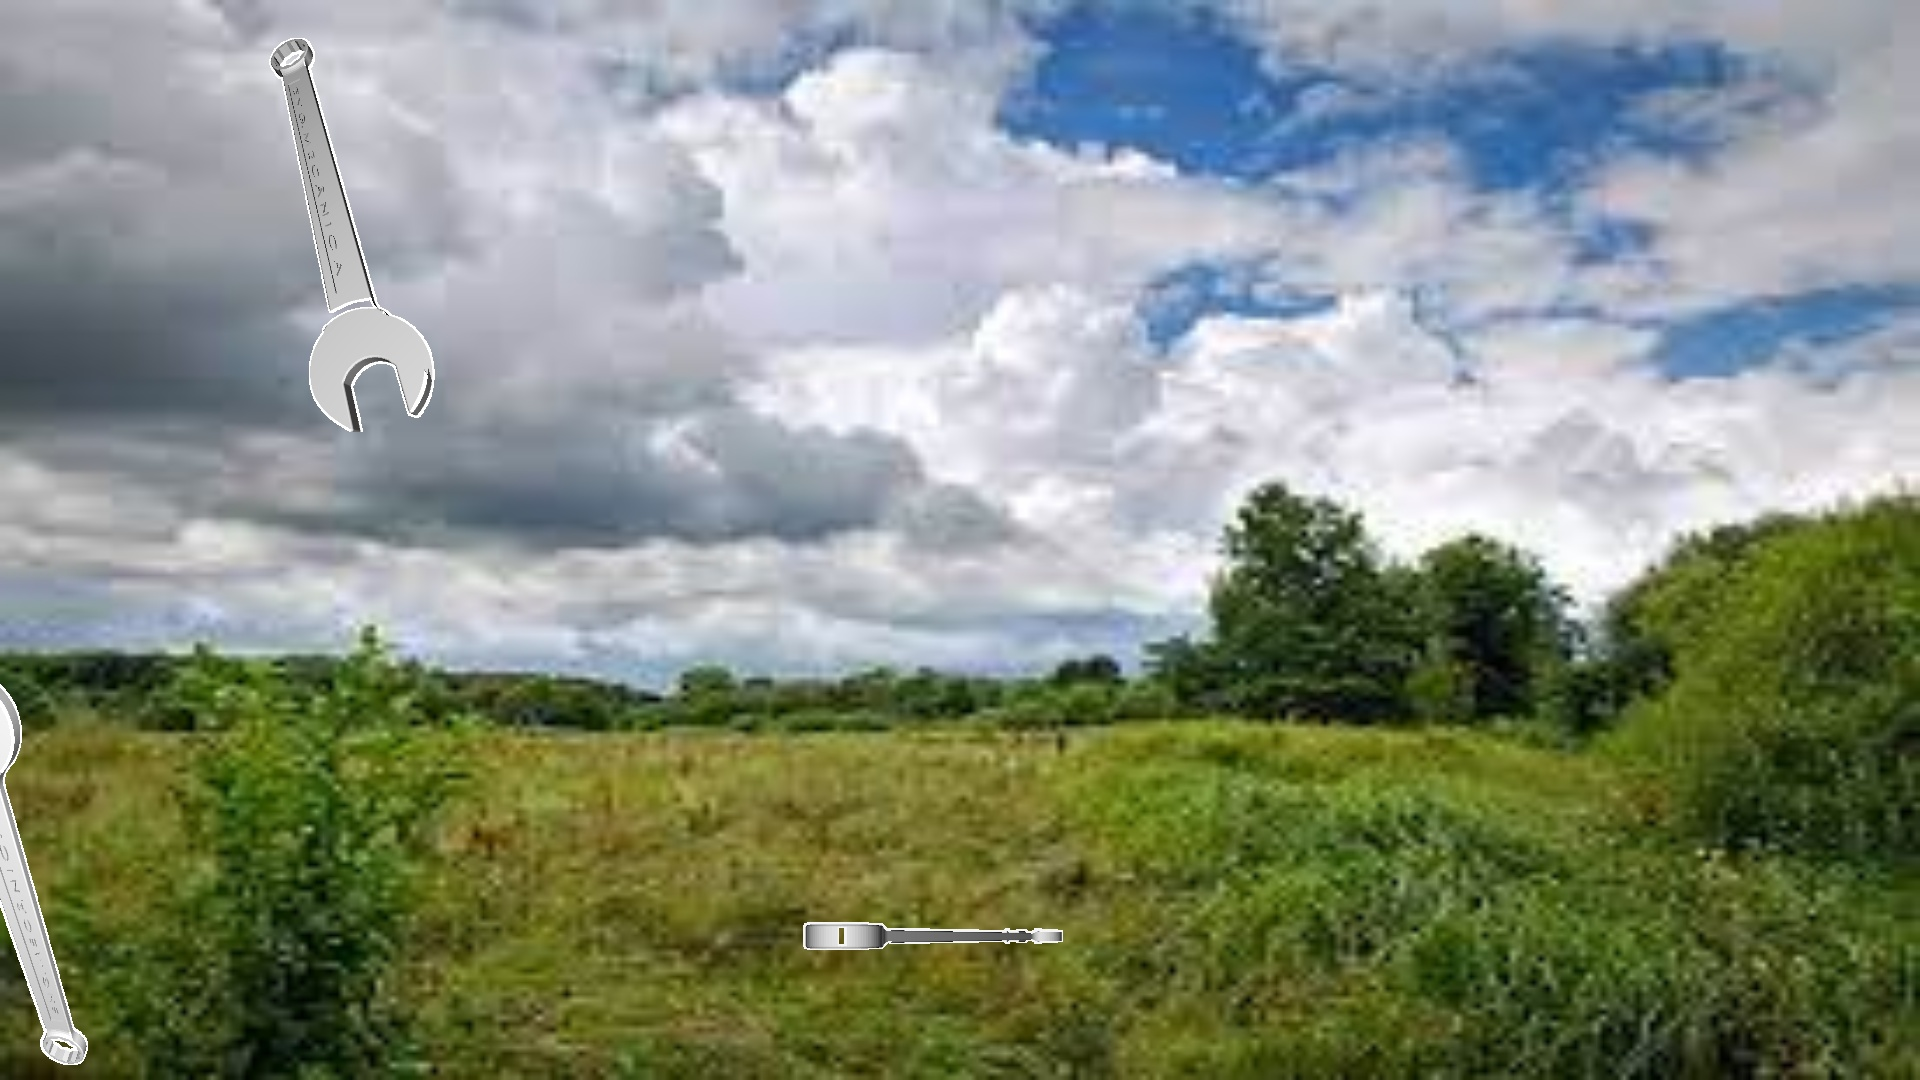Mixed Key: (269, 38, 434, 431), (0, 684, 87, 1064), (803, 922, 1062, 949)
